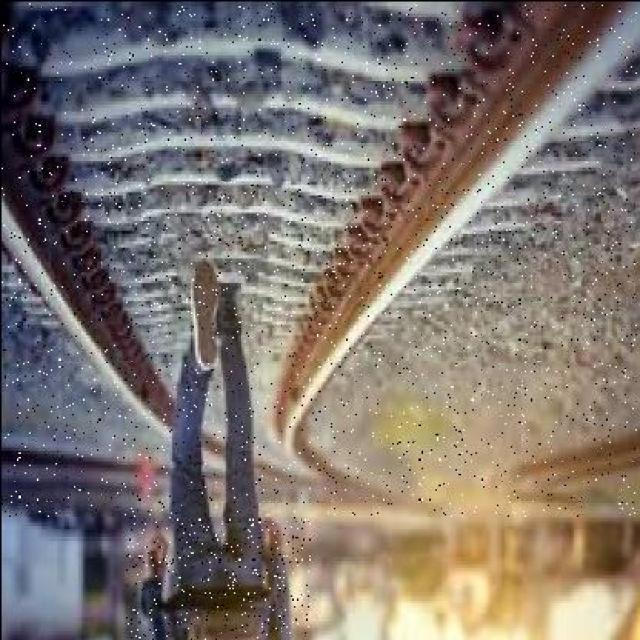rail: (2, 3, 636, 516)
